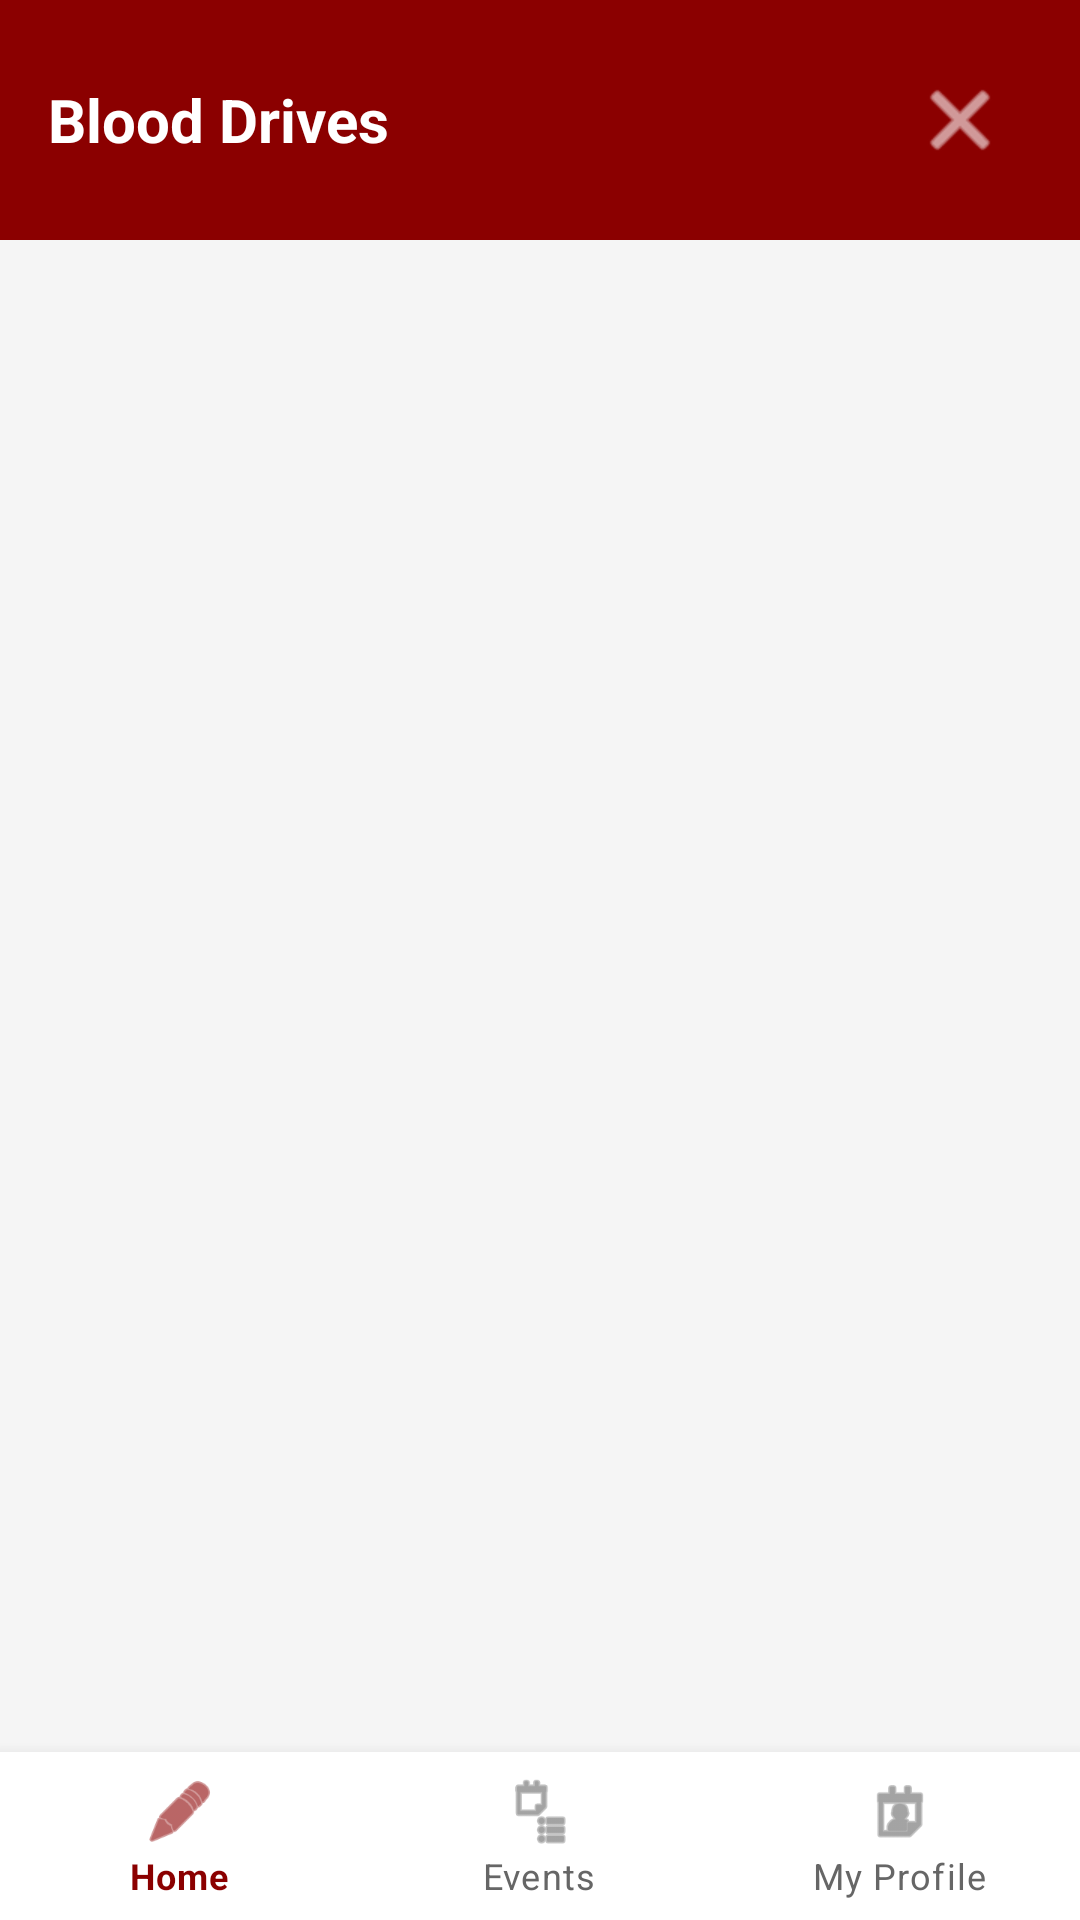

Icons on this 1080px x 1920px Android screen, each with its box as box=[x1, y1, x2, y2]:
close clear cancel: box=[930, 90, 990, 150]
